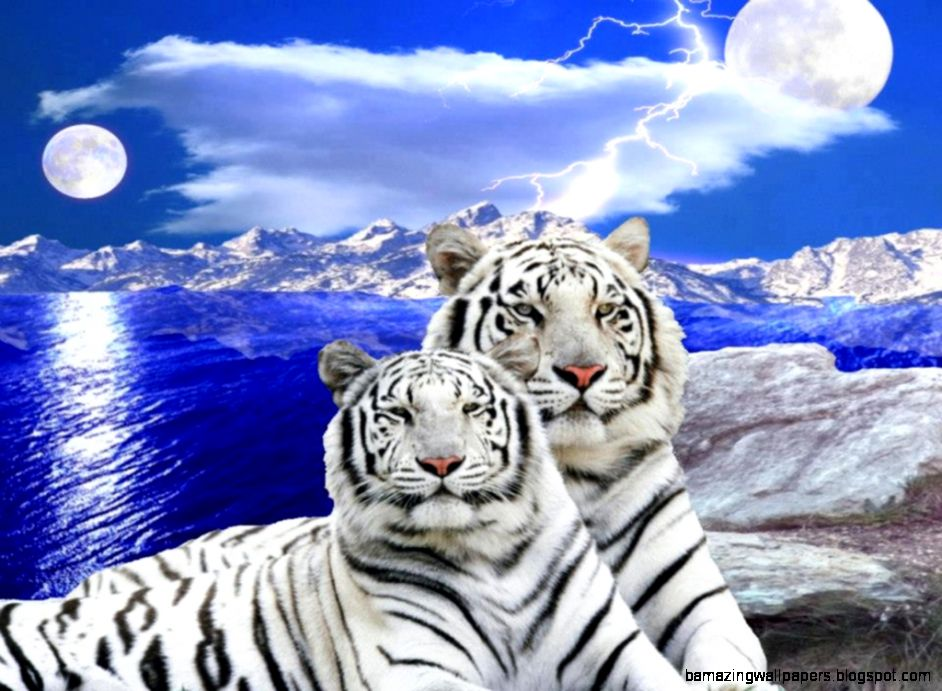Tigrew: (272, 318, 635, 592), (394, 182, 728, 434)
